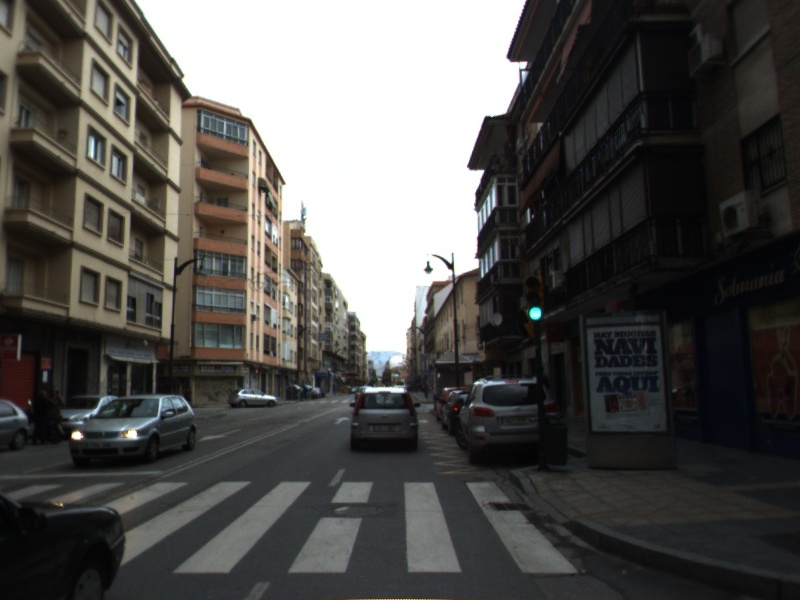STRAIGHT: (333, 415, 351, 426)
